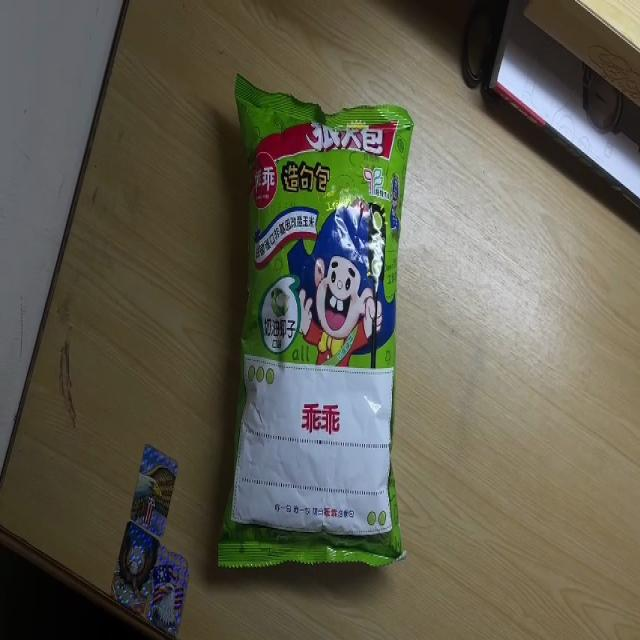Good-Luck: (216, 69, 413, 573)
